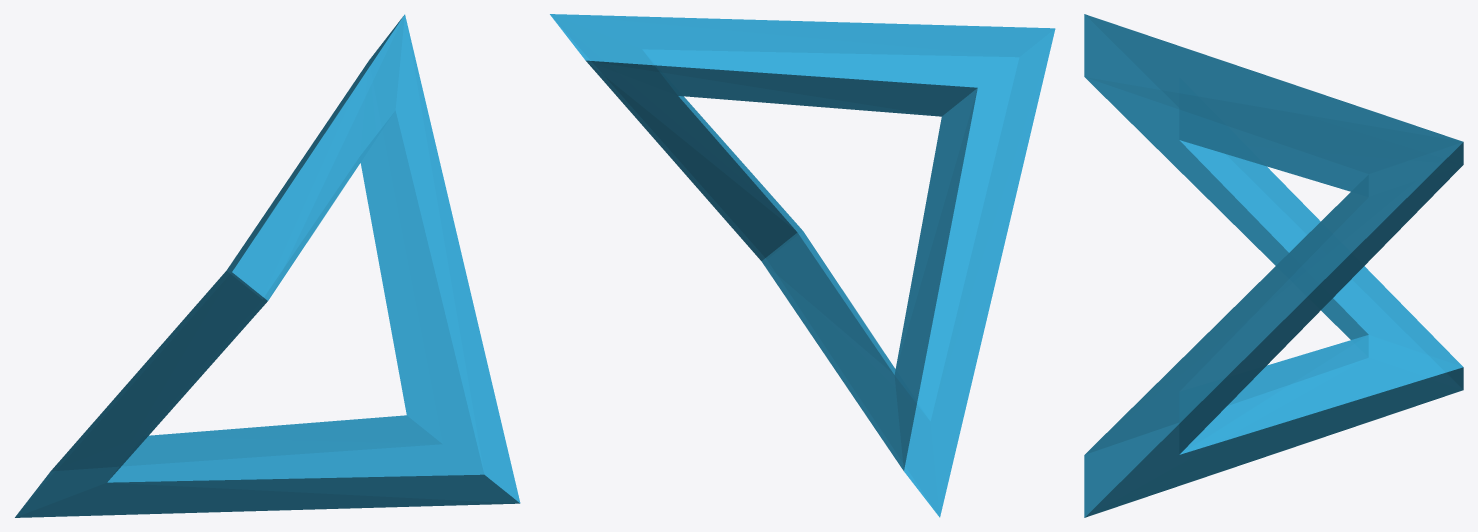
File: HexagonalToroid.obj
The picture shows the model from 3 angles, left to right: view 1: azimuth 30°, elevation 25°; view 2: azimuth 150°, elevation 25°; view 3: azimuth 270°, elevation 25°; orthographic projection. The views are drawn at different scales.
Size of the model in its own units: 10.83 by 10.83 by 8.
